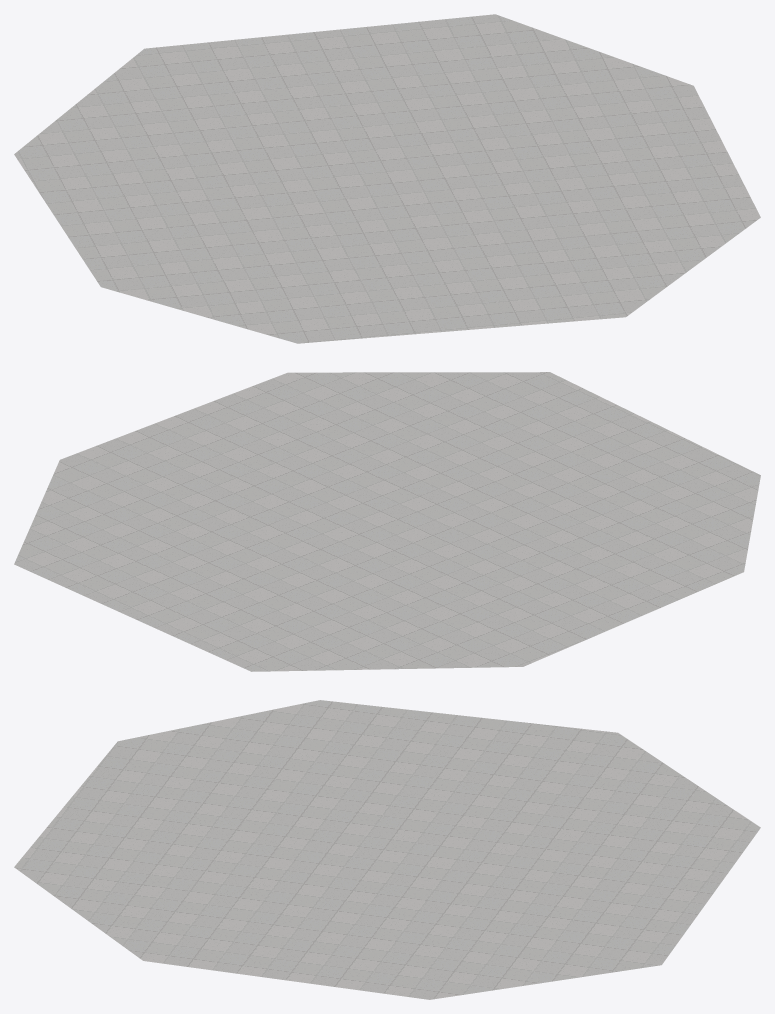
File: kd_stage_1366d7_3_6.glb
The picture shows the model from 3 angles, top to bottom: view 1: azimuth 30°, elevation 25°; view 2: azimuth 150°, elevation 25°; view 3: azimuth 270°, elevation 25°; orthographic projection. The views are drawn at different scales.
Parts seen in each view (by area): view 1: kd_stage_1366d7_3_6; view 2: kd_stage_1366d7_3_6; view 3: kd_stage_1366d7_3_6.
Part boxes in pixels (x1,y1,x2,y2): kd_stage_1366d7_3_6: [14, 14, 760, 343]; kd_stage_1366d7_3_6: [14, 372, 760, 671]; kd_stage_1366d7_3_6: [14, 700, 760, 999].
Size of the model in its own units: 49.76 by 3.81e-06 by 52.38.
1 material, 1 textured.
